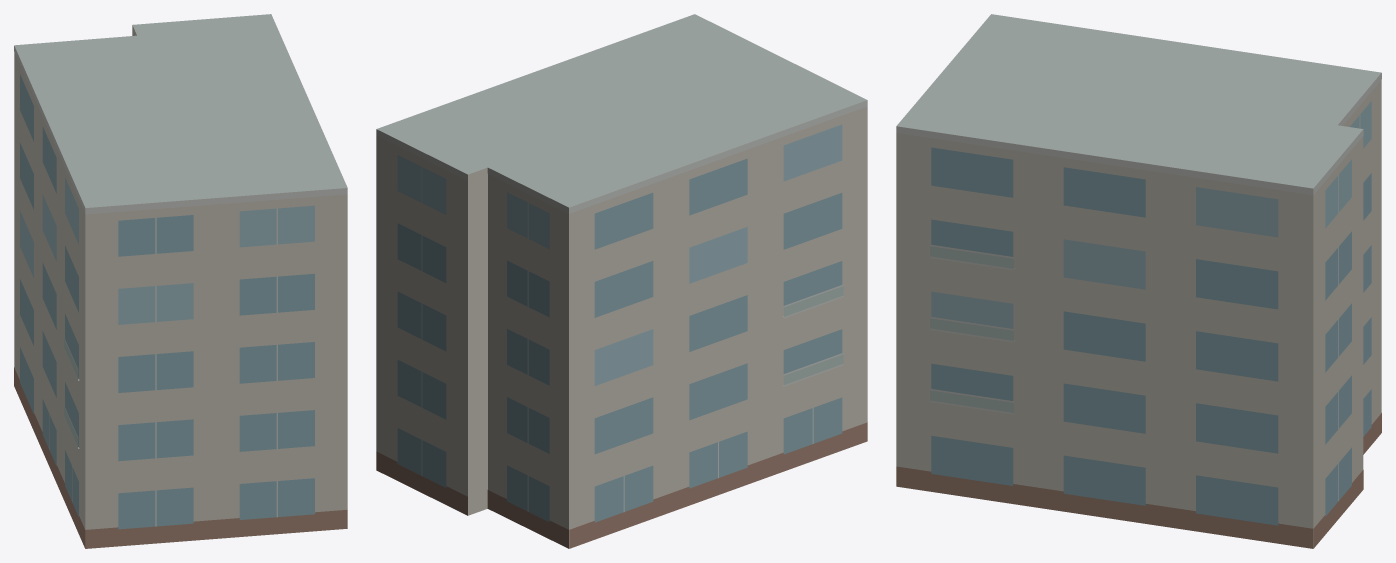
The model's file is survey-upis-32974940.glb.
The picture shows the model from 3 angles, left to right: view 1: azimuth 30°, elevation 25°; view 2: azimuth 150°, elevation 25°; view 3: azimuth 270°, elevation 25°; orthographic projection. The views are drawn at different scales.
Parts seen in each view (by area): view 1: survey-upis-32974940.tmp; view 2: survey-upis-32974940.tmp; view 3: survey-upis-32974940.tmp.
Part boxes in pixels (x1,y1,x2,y2): survey-upis-32974940.tmp: [14, 14, 347, 548]; survey-upis-32974940.tmp: [376, 14, 867, 548]; survey-upis-32974940.tmp: [896, 14, 1381, 548].
Size of the model in its own units: 13.83 by 13.3 by 16.25.
